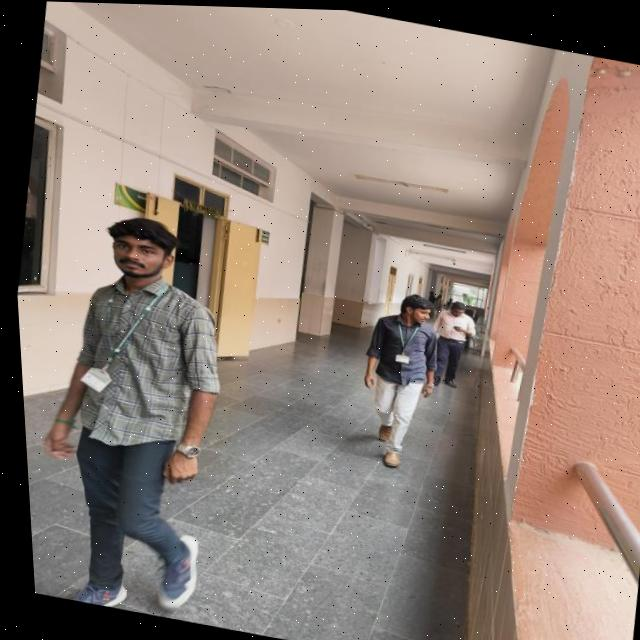id_card: (55, 267, 169, 407), (377, 311, 423, 371)
